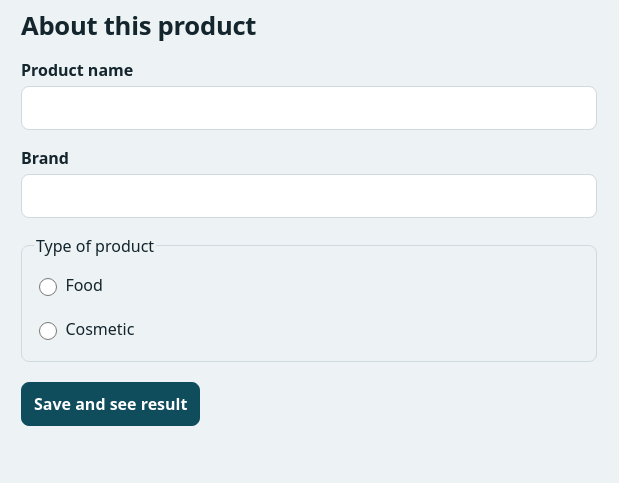
Scenario: details: a failed save shows an alert and stays on the page
The width and height of the screenshot is (619, 483).
Step 1. Type "Lotion" into the field labelled "Product name" → (309, 108), box [21,86,597,130]
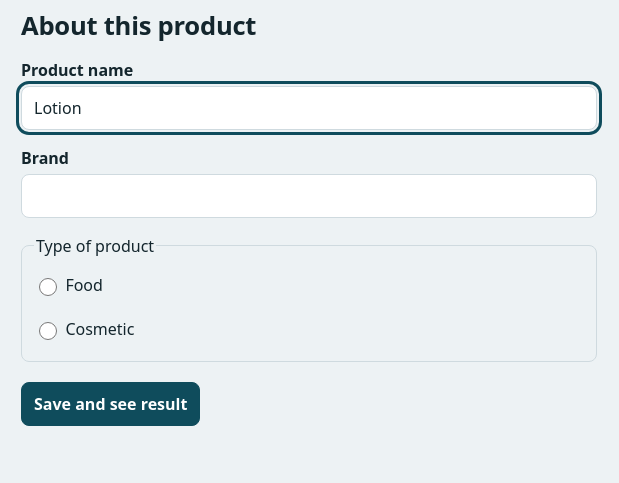
Step 2. Type "Acme" into the field labelled "Brand" → (309, 196), box [21,174,597,218]
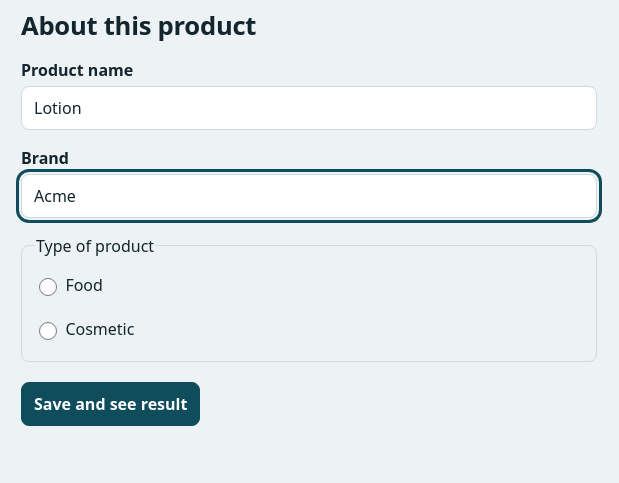
Step 3. Click the radio button labelled "Cosmetic" → (48, 331), box [39,322,57,340]
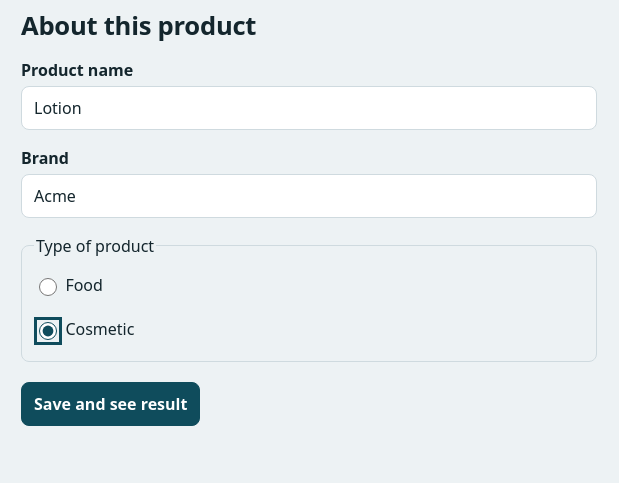
Step 4. Click the button "Save and see result" → (111, 404), box [21,382,200,426]
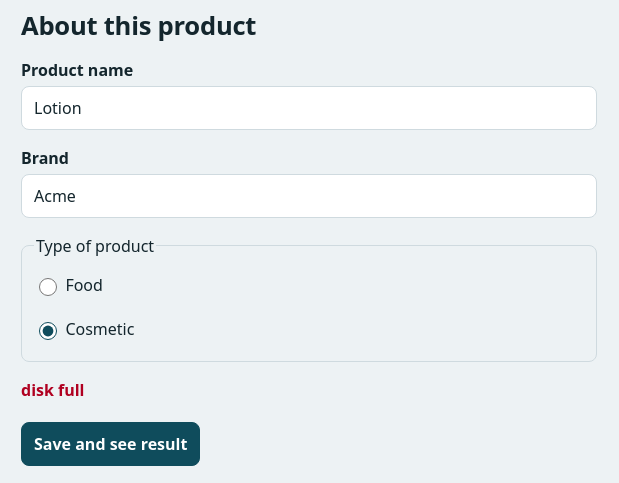
Expected: the message reads "disk full", [21,379,84,401]
